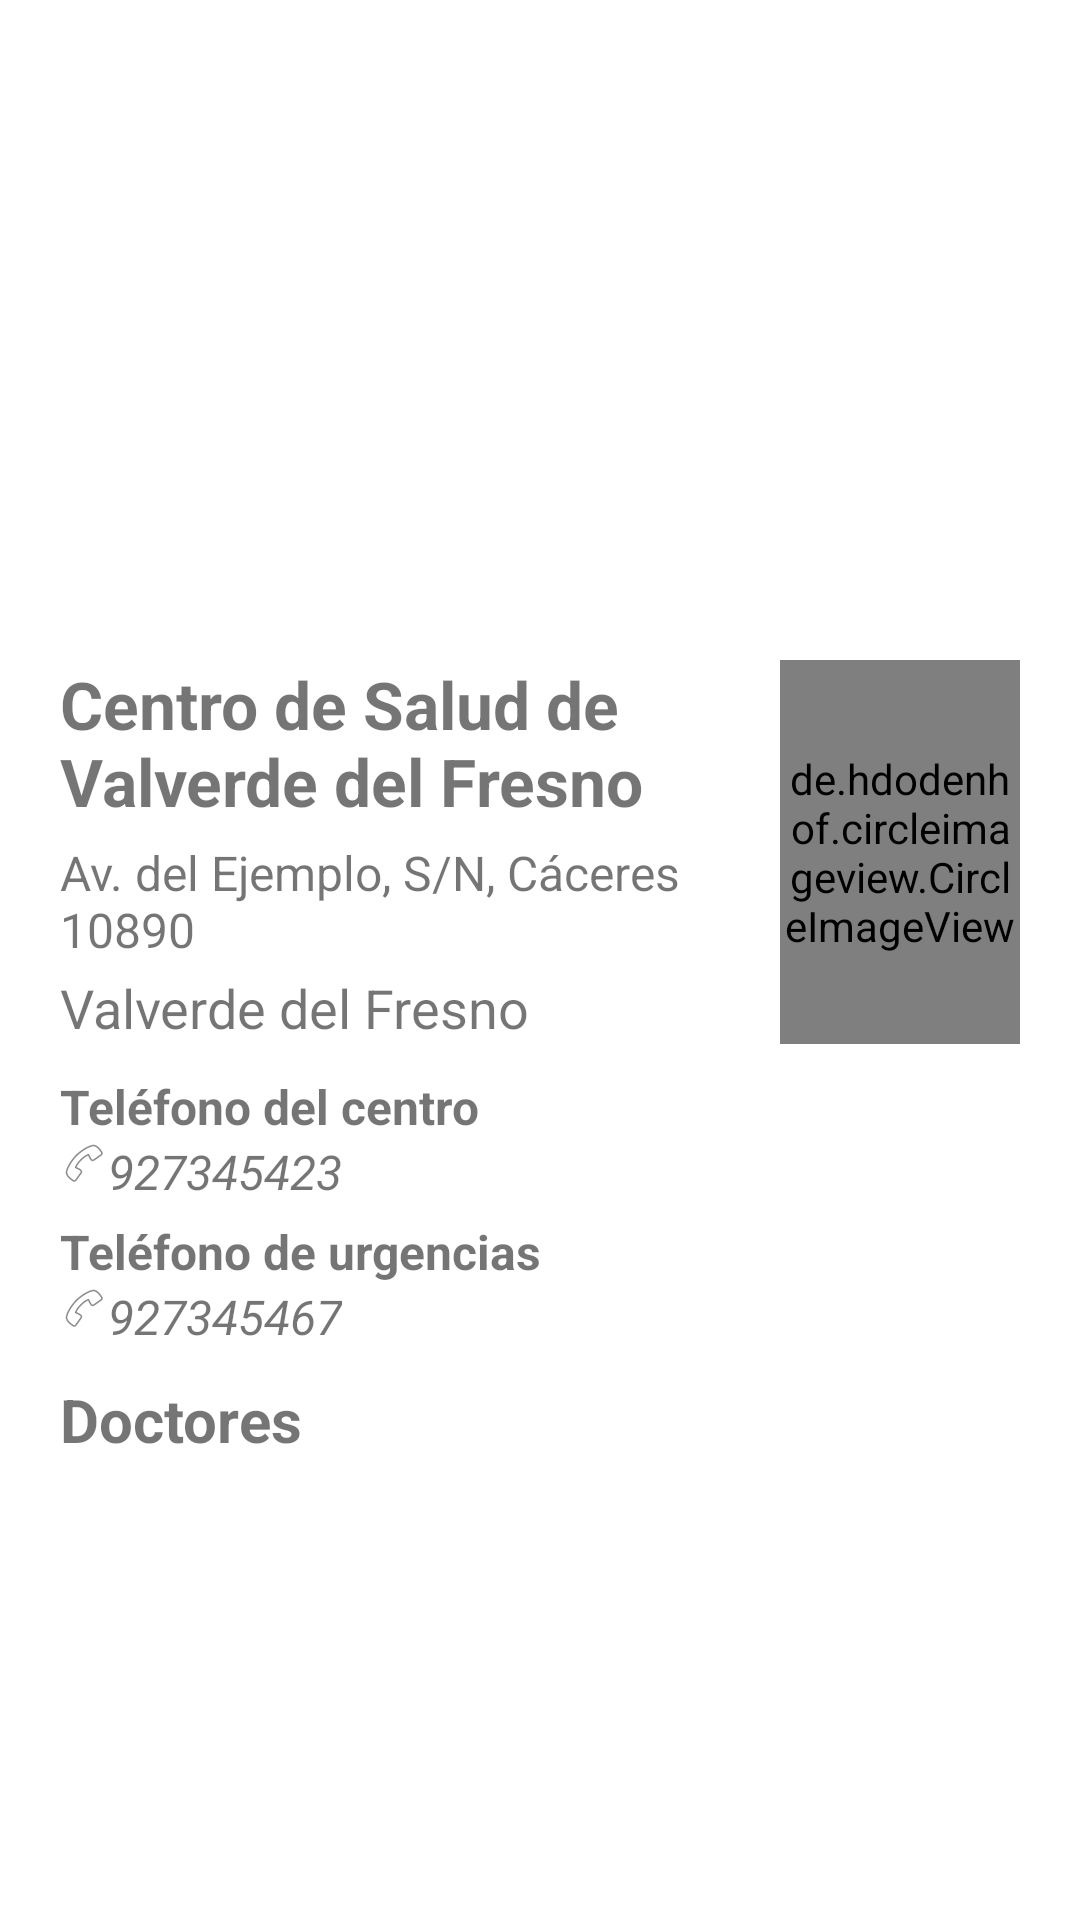

Screen size 1080×1920. Icon name, then its center in pixels as [x,y]:
call: [84,1163], [84,1308]
